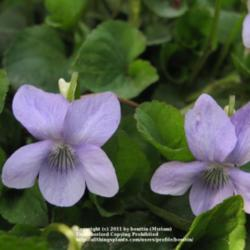violet: (6, 84, 124, 215), (149, 86, 250, 216)
